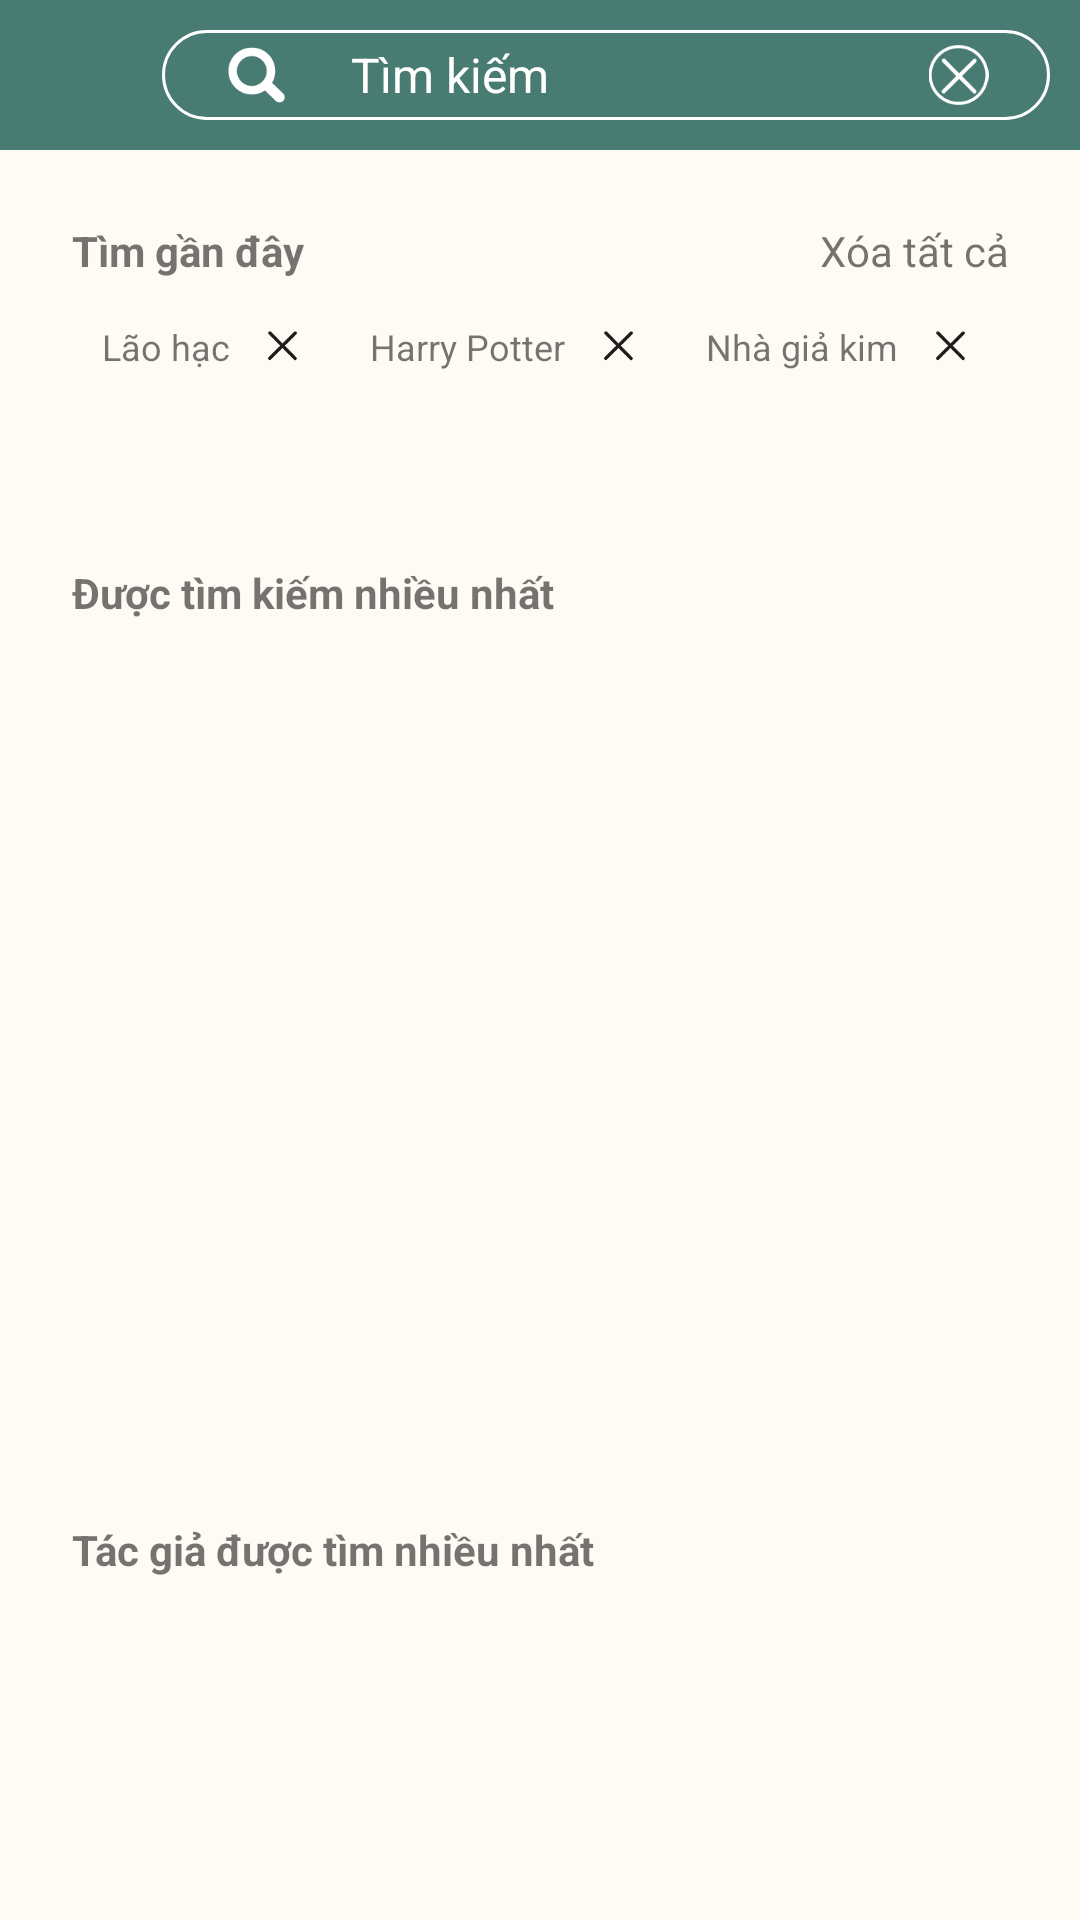

Icon click points for this 1080w x 1920h phone screenshot, format [x,y]:
cancel: [959,75]
delete seach: [282,346], [618,346], [950,346]
search: [256,75]
